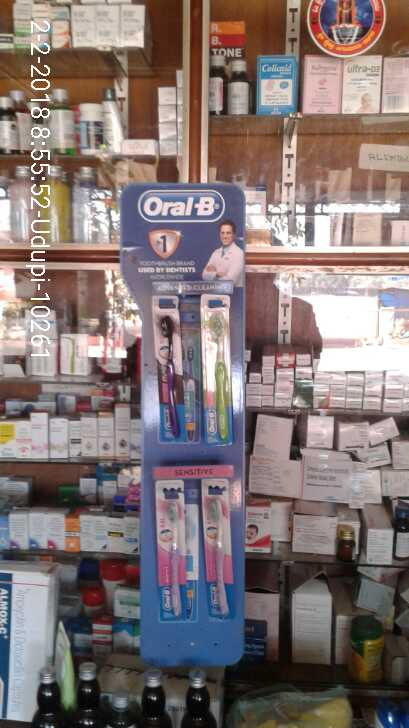oralb: (149, 296, 190, 440), (197, 487, 237, 619), (199, 304, 229, 448), (157, 476, 187, 620)
